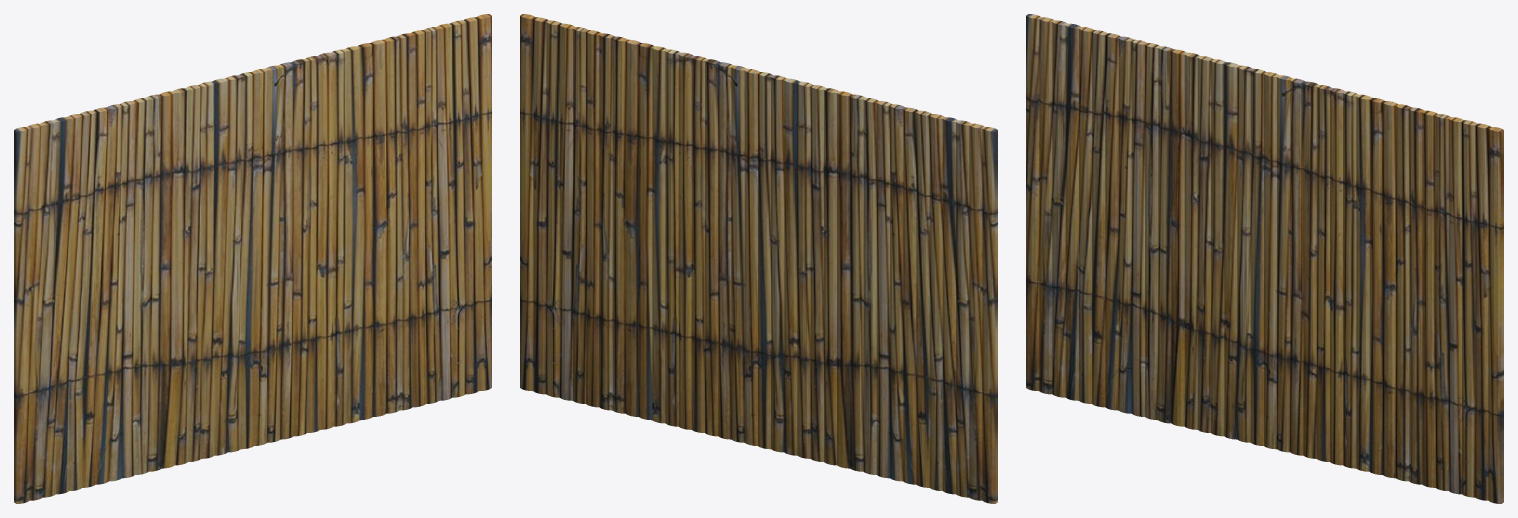
File: BambooWall.glb
The picture shows the model from 3 angles, left to right: view 1: azimuth 30°, elevation 25°; view 2: azimuth 150°, elevation 25°; view 3: azimuth 330°, elevation 25°; orthographic projection.
Visible parts, largest first — view 1: BambooWall; view 2: BambooWall; view 3: BambooWall.
Boxes of the visible parts, x1,y1,x2,y2 form: BambooWall: [14, 14, 491, 503]; BambooWall: [520, 14, 997, 503]; BambooWall: [1026, 14, 1503, 503].
Size of the model in its own units: 6 by 4.49 by 0.0997.
Materials: 1 (1 with a texture image).
